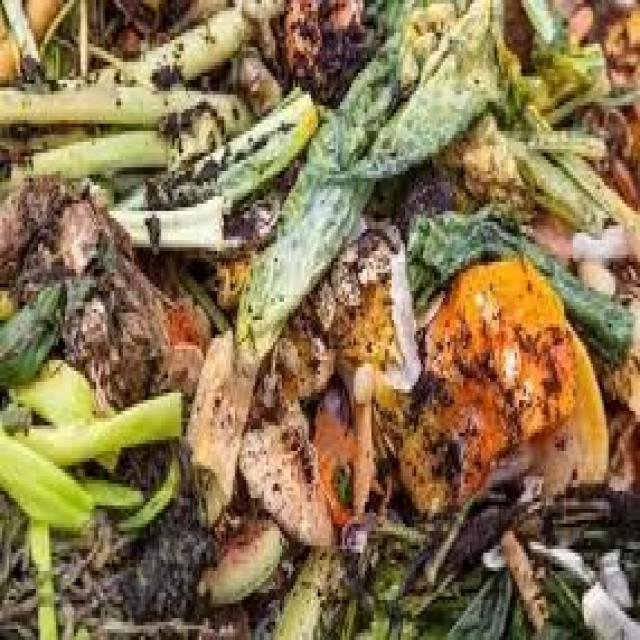organic waste: (0, 0, 638, 636), (181, 0, 490, 509), (421, 247, 606, 480), (405, 196, 638, 378), (0, 171, 168, 396), (320, 0, 499, 178), (257, 225, 423, 393), (112, 76, 318, 208), (385, 488, 530, 636), (501, 484, 638, 636), (0, 484, 128, 636), (72, 0, 284, 84), (521, 95, 638, 240), (0, 79, 257, 145), (488, 11, 606, 145), (329, 218, 421, 386), (7, 375, 181, 458), (121, 476, 219, 614), (240, 414, 336, 552), (523, 0, 637, 105), (0, 414, 92, 542), (38, 0, 184, 73), (280, 0, 369, 109), (342, 528, 426, 636), (192, 509, 288, 600), (25, 127, 181, 182), (302, 385, 367, 513), (448, 120, 532, 218), (271, 534, 351, 636), (110, 582, 248, 636), (112, 193, 233, 251), (385, 396, 445, 506), (0, 273, 56, 389), (0, 0, 65, 80), (224, 174, 291, 251), (385, 153, 459, 218), (159, 288, 208, 386), (27, 513, 63, 636), (477, 127, 604, 160), (597, 98, 638, 196), (194, 247, 250, 313), (116, 466, 177, 524), (78, 469, 146, 516), (6, 0, 42, 76), (0, 284, 25, 306)
